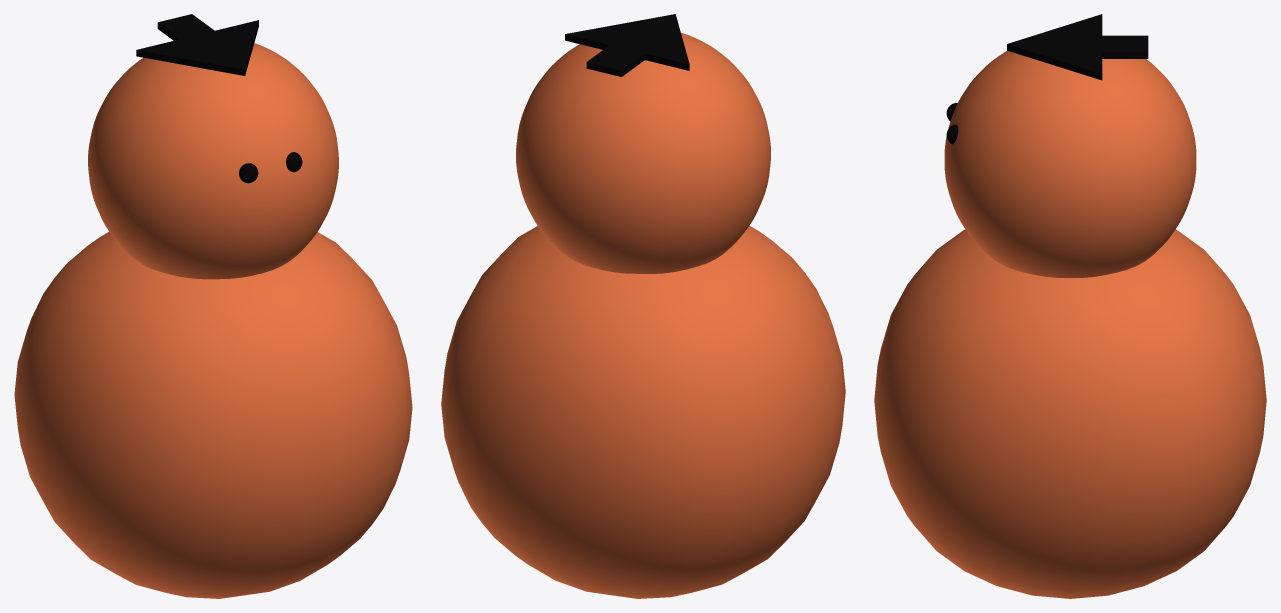
File: 1beige.obj
3 views of the same model, side by side, from view 1: azimuth 30°, elevation 25°; view 2: azimuth 150°, elevation 25°; view 3: azimuth 270°, elevation 25° (orthographic).
Parts seen in each view (by area): view 1: Cube.002_Cube.028; view 2: Cube.002_Cube.028; view 3: Cube.002_Cube.028.
Boxes of the visible parts, x1,y1,x2,y2 form: Cube.002_Cube.028: [14, 14, 412, 598]; Cube.002_Cube.028: [441, 14, 845, 598]; Cube.002_Cube.028: [874, 14, 1266, 598].
Size of the model in its own units: 0.3205 by 0.4814 by 0.3205.
